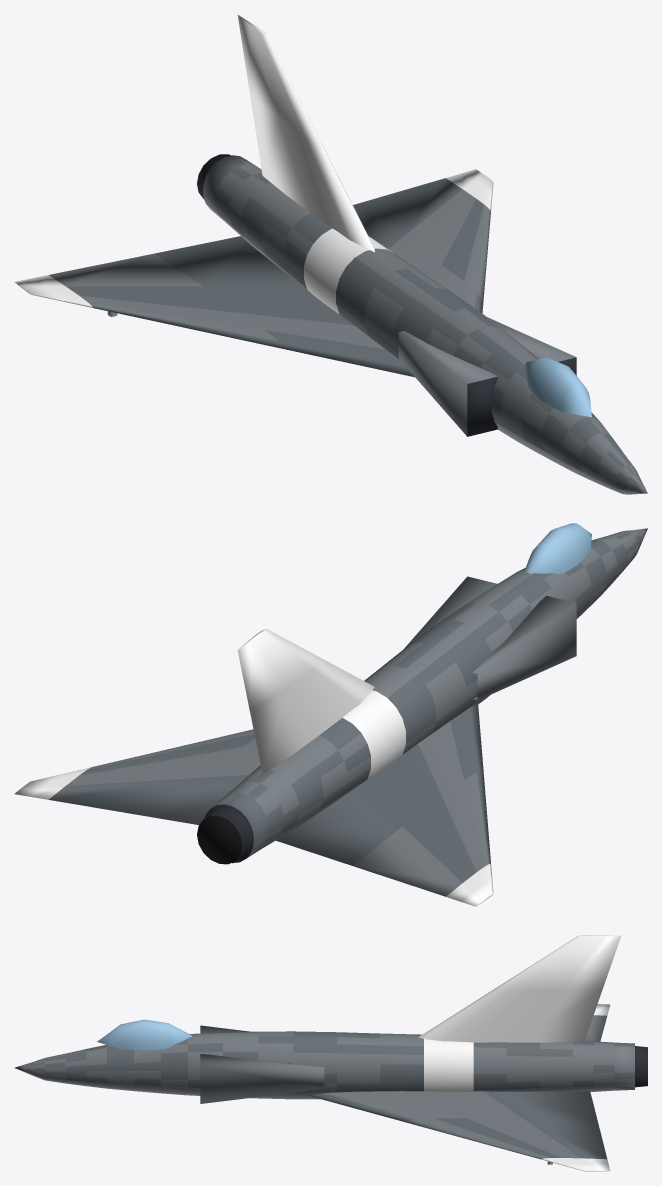
File: mirage2000_5.glb
3 renders of one model, top to bottom at view 1: azimuth 30°, elevation 25°; view 2: azimuth 150°, elevation 25°; view 3: azimuth 270°, elevation 25°, orthographic. The views are drawn at different scales.
Visible parts, largest first — view 1: body; view 2: body; view 3: body.
Boxes of the visible parts, box(x1,y1,x2,y2) form: body: box(14, 15, 647, 494); body: box(14, 523, 647, 906); body: box(14, 935, 647, 1171).
Size of the model in its own units: 9.13 by 4.21 by 14.66.
